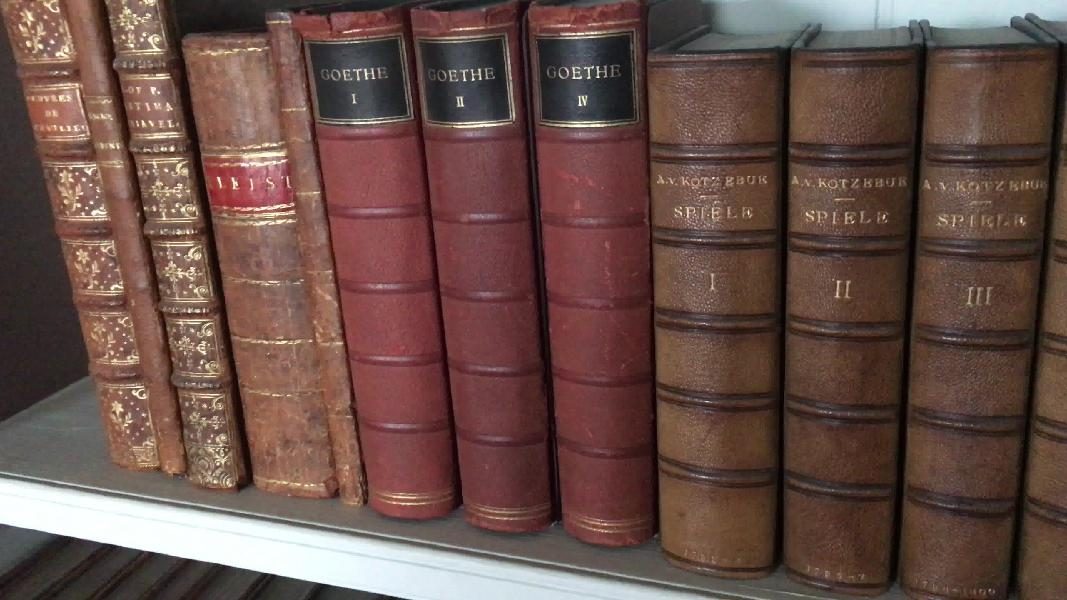Aa6-10: (252, 4, 365, 511)
Aa6-11_13: (292, 1, 681, 561)
Aa6-14_17: (642, 48, 1067, 600)
Aa6-7: (63, 2, 192, 477)
Aa6-8: (105, 5, 240, 486)
Aa6-9: (173, 23, 335, 492)
